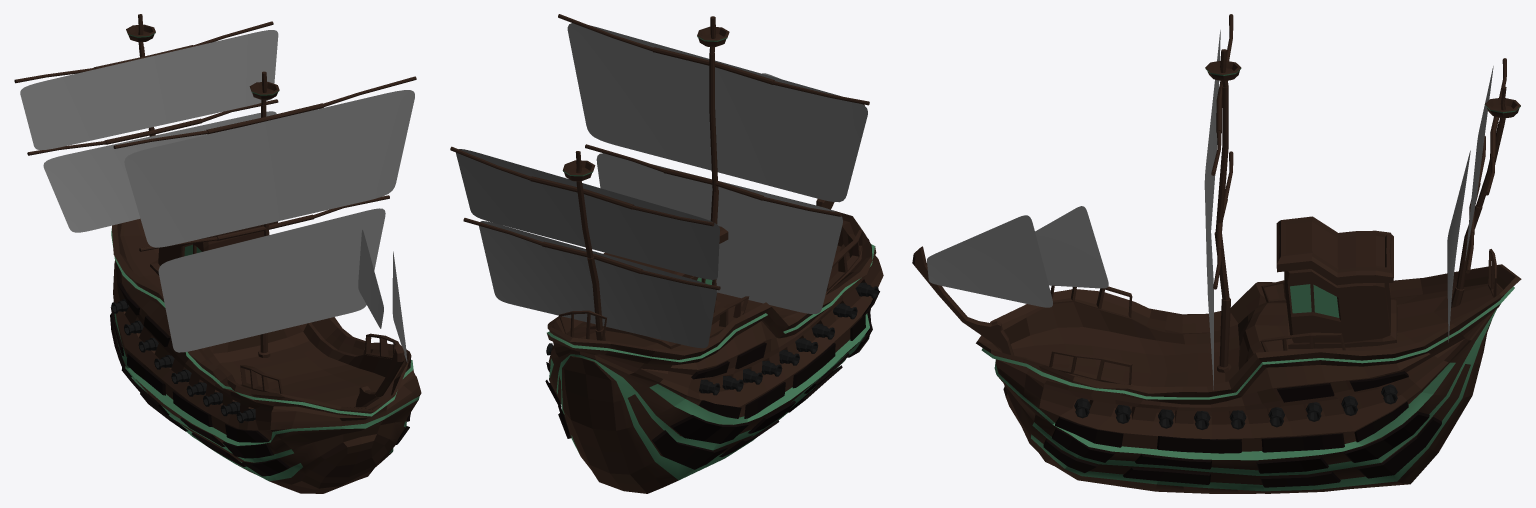
The model's file is 11-24_ShipModel_v3.fbx.
3 views of the same model, side by side, from view 1: azimuth 30°, elevation 25°; view 2: azimuth 150°, elevation 25°; view 3: azimuth 270°, elevation 25° (orthographic). The views are drawn at different scales.
Parts seen in each view (by area): view 1: Sails, Hull, Cannon_L, Mast Horiz Mid_1, R_front_L, Armor (15), Armor (18), Front Mast, Mast Horiz Mid_2 (2), Armor (20), Mast high, Armor (23) (+4 smaller); view 2: Sails, Hull, Cannon_L, Armor (25), Armor (24), Mast mid, R_front_L, Mast Horiz Mid_1, Armor (20), Mast high, Mast high (2), R_middle_L (+6 smaller); view 3: Hull, Sails, Cannon_R, Armor (11), Armor (10), Armor (6), Armor (4), Mid_Mast base, Armor (8), Mast mid, R_front_R, Armor (3) (+10 smaller).
Boxes of the visible parts, x1,y1,x2,y2 form: Sails: [20, 30, 414, 362]; Hull: [111, 218, 421, 493]; Cannon_L: [111, 299, 255, 423]; Mast Horiz Mid_1: [206, 103, 323, 134]; R_front_L: [240, 365, 282, 394]; Armor (15): [222, 441, 273, 458]; Armor (18): [127, 353, 165, 395]; Front Mast: [375, 343, 404, 396]; Mast Horiz Mid_2 (2): [104, 118, 202, 144]; Armor (20): [172, 391, 212, 426]; Mast high: [249, 71, 279, 105]; Armor (23): [225, 424, 269, 442]; Sails: [456, 23, 867, 348]; Hull: [547, 210, 883, 493]; Cannon_L: [699, 282, 878, 395]; Armor (25): [652, 430, 728, 469]; Armor (24): [670, 415, 749, 443]; Mast mid: [709, 53, 718, 191]; R_front_L: [826, 230, 862, 291]; Mast Horiz Mid_1: [652, 47, 774, 84]; Armor (20): [792, 343, 835, 388]; Mast high: [697, 16, 729, 53]; Mast high (2): [562, 151, 595, 186]; R_middle_L: [709, 296, 749, 337]; Hull: [976, 216, 1521, 493]; Sails: [927, 30, 1493, 389]; Cannon_R: [1074, 384, 1397, 429]; Armor (11): [1356, 417, 1441, 478]; Armor (10): [1343, 411, 1429, 462]; Armor (6): [1157, 436, 1241, 453]; Armor (4): [1261, 433, 1344, 452]; Mid_Mast base: [1214, 232, 1231, 372]; Armor (8): [1123, 467, 1210, 484]; Mast mid: [1215, 86, 1228, 233]; R_front_R: [1049, 350, 1132, 384]; Armor (3): [1256, 456, 1328, 473].
Bounding box in the file's own units: 1601 × 2039 × 2547.
